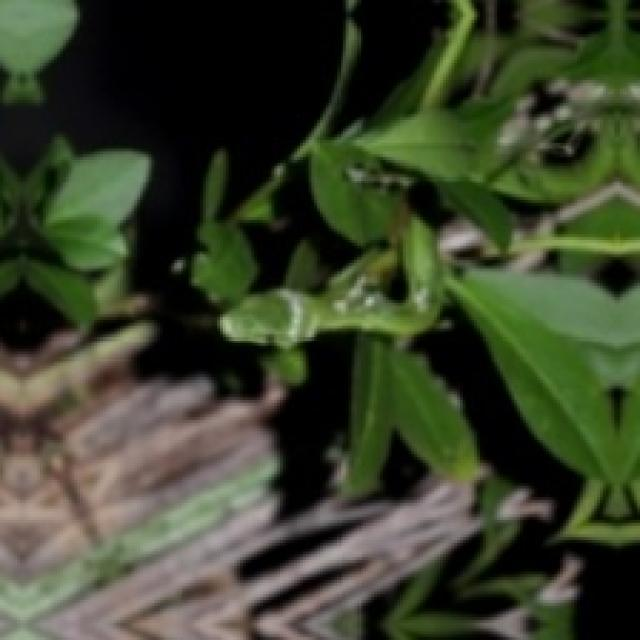red-tailed green ratsnake: (220, 215, 444, 348)
